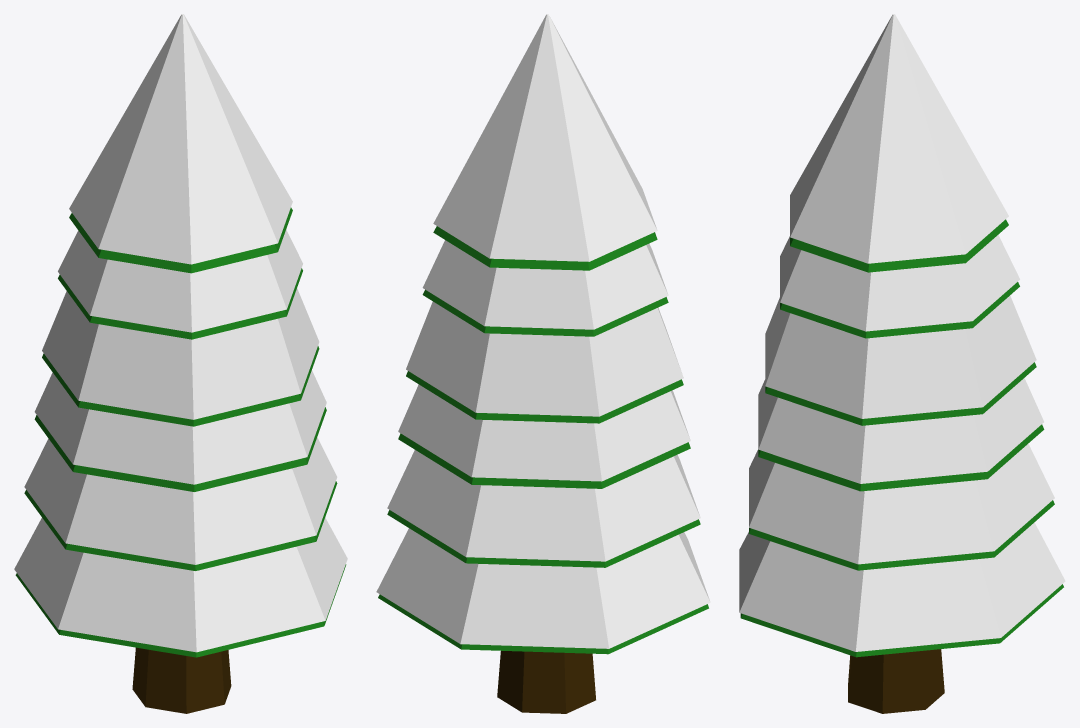
File: pinetree.fbx
The picture shows the model from 3 angles, left to right: view 1: azimuth 30°, elevation 25°; view 2: azimuth 150°, elevation 25°; view 3: azimuth 270°, elevation 25°; orthographic projection.
Parts seen in each view (by area): view 1: Cylinder.013, Cylinder.008, Cylinder.009, Cylinder.011, Cylinder.010, Cylinder.012, trunk, Cylinder.003, Cylinder.002, Cylinder.007, Cylinder.004, Cylinder.005 (+1 smaller); view 2: Cylinder.013, Cylinder.008, Cylinder.009, Cylinder.011, Cylinder.010, Cylinder.012, trunk, Cylinder.003, Cylinder.002, Cylinder.007, Cylinder.004, Cylinder.001 (+1 smaller); view 3: Cylinder.013, Cylinder.008, Cylinder.009, Cylinder.011, Cylinder.010, Cylinder.012, trunk, Cylinder.003, Cylinder.002, Cylinder.007, Cylinder.004, Cylinder.001 (+1 smaller).
Part boxes in pixels (x1,y1,x2,y2): Cylinder.013: [69, 14, 292, 264]; Cylinder.008: [14, 517, 347, 652]; Cylinder.009: [24, 437, 337, 564]; Cylinder.011: [42, 288, 319, 419]; Cylinder.010: [34, 370, 326, 484]; Cylinder.012: [58, 230, 302, 332]; trunk: [132, 647, 231, 713]; Cylinder.003: [34, 407, 326, 491]; Cylinder.002: [24, 481, 337, 570]; Cylinder.007: [69, 207, 292, 273]; Cylinder.004: [42, 346, 319, 426]; Cylinder.005: [58, 268, 302, 339]; Cylinder.013: [433, 14, 657, 261]; Cylinder.008: [376, 528, 710, 648]; Cylinder.009: [387, 450, 700, 561]; Cylinder.011: [406, 301, 683, 416]; Cylinder.010: [398, 384, 690, 481]; Cylinder.012: [422, 240, 668, 329]; trunk: [497, 651, 595, 713]; Cylinder.003: [398, 433, 690, 488]; Cylinder.002: [387, 510, 700, 567]; Cylinder.007: [433, 226, 657, 270]; Cylinder.004: [406, 371, 683, 423]; Cylinder.001: [378, 594, 708, 654]; Cylinder.013: [790, 14, 1008, 263]; Cylinder.008: [739, 522, 1065, 651]; Cylinder.009: [749, 443, 1054, 564]; Cylinder.011: [765, 295, 1036, 418]; Cylinder.010: [758, 378, 1043, 483]; Cylinder.012: [780, 235, 1019, 331]; trunk: [848, 649, 944, 713]; Cylinder.003: [758, 424, 1044, 491]; Cylinder.002: [749, 500, 1054, 570]; Cylinder.007: [790, 219, 1008, 272]; Cylinder.004: [765, 362, 1036, 425]; Cylinder.001: [740, 584, 1063, 657].
Bounding box in the file's own units: 459 × 1027 × 448.
